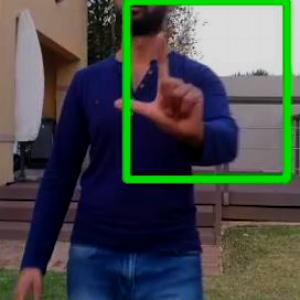land_hand: (105, 24, 212, 150)
